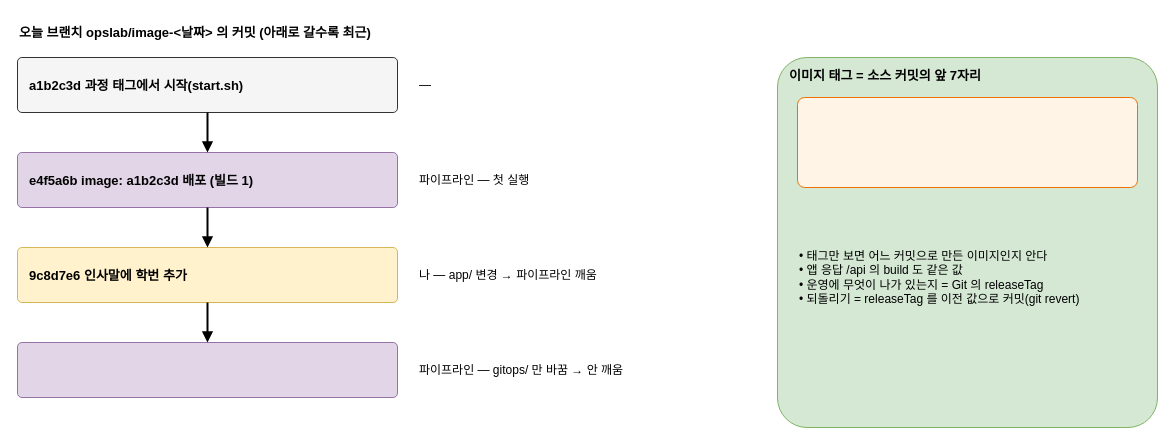
Image size: 1175x445. Some labels were removed from this diagram. Here are the shapes that lost their labels. From the top down, the centre of each, then its label:
pixel 967 142: ECR :a1b2c3d (빌드 1) :9c8d7e6 (빌드 2)
pixel 207 370: 1f2e3d4 image: 9c8d7e6 배포 (빌드 2)
